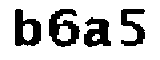5: (118, 6, 149, 50)
6: (45, 7, 81, 52)
a: (82, 19, 117, 52)
b: (9, 5, 42, 48)
